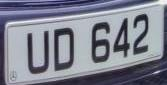2: (132, 10, 151, 59)
4: (112, 12, 133, 65)
6: (90, 16, 114, 72)
D: (52, 23, 79, 74)
U: (24, 27, 52, 77)
